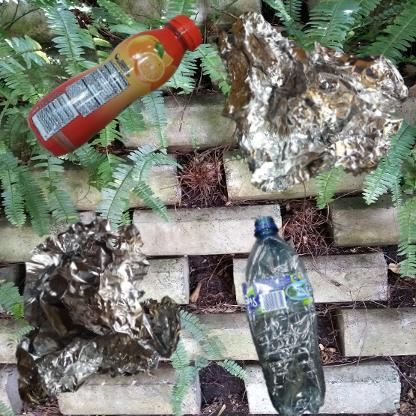aluminio: (213, 10, 409, 195), (10, 213, 185, 412)
botella: (10, 10, 262, 187), (213, 213, 378, 416)
